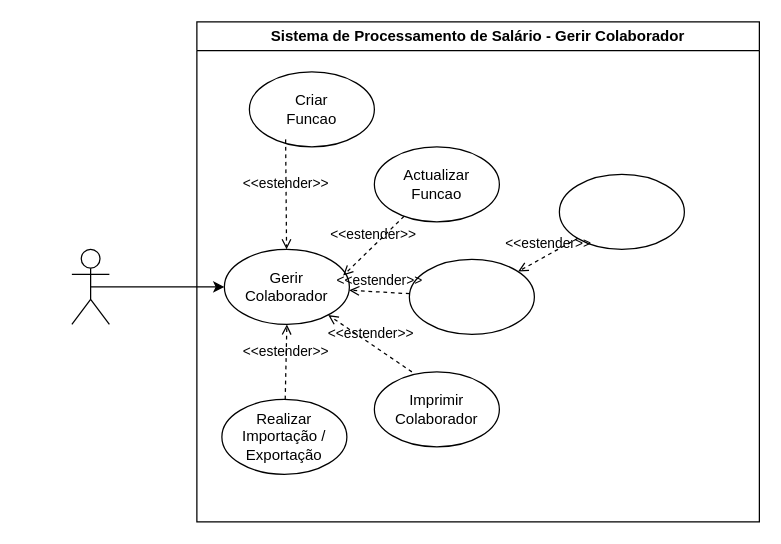
Image size: 781x544. Some labels were removed from this diagram. The shapes that lost their labels are listed below. From the top down, each one's centre as x and y in pixels, then its label:
(x=621, y=211): Impedir Eliminação
(x=90, y=286): Administrador de RH
(x=471, y=296): Eliminar Funcao
